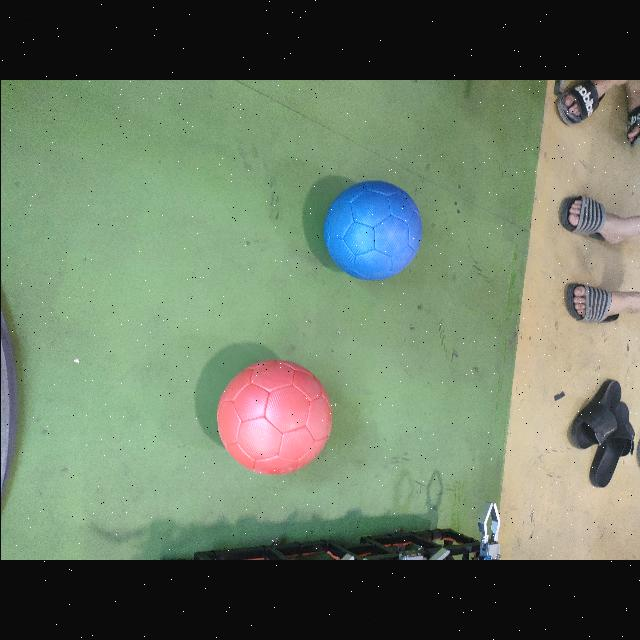B: (323, 181, 421, 281)
R: (217, 359, 330, 474)
